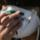with_mask: (2, 2, 40, 40)
